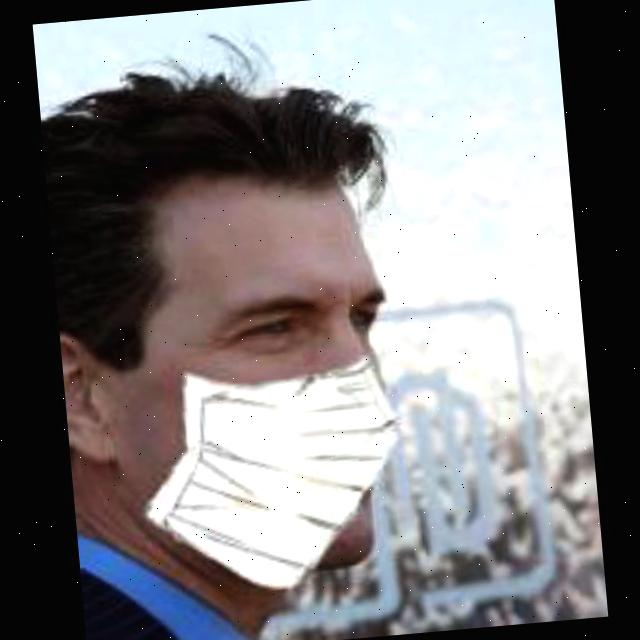suspicion: (42, 55, 498, 588)
